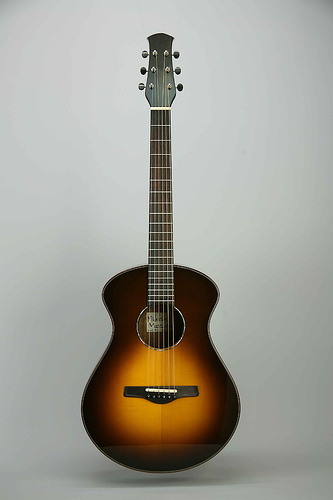guitar: (77, 34, 243, 474)
